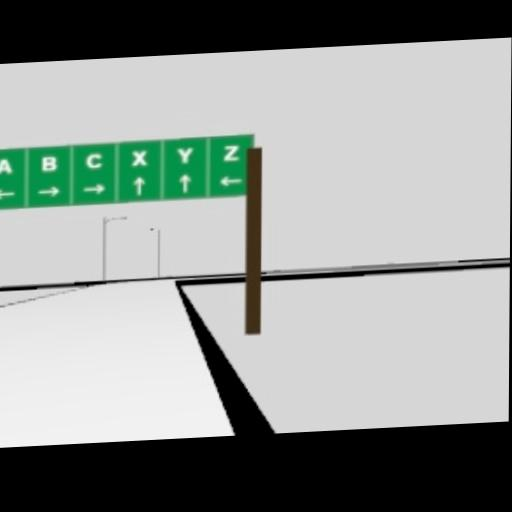A: (0, 157, 11, 174)
B: (40, 155, 56, 172)
C: (84, 151, 102, 168)
Left: (217, 174, 242, 186), (0, 186, 17, 199)
Right: (38, 185, 61, 197), (82, 183, 105, 195)
Straight: (132, 175, 145, 196), (178, 173, 191, 194)
X: (131, 148, 147, 165)
Y: (177, 145, 193, 164)
Z: (223, 144, 239, 160)
